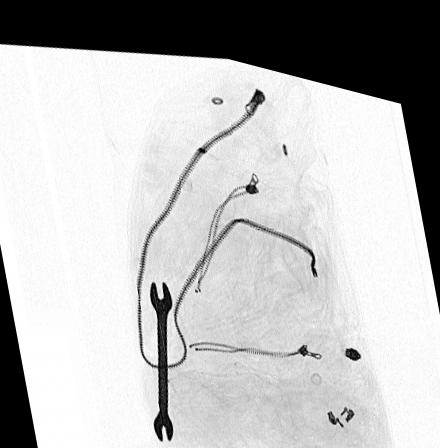Wrench: (146, 268, 174, 434)
